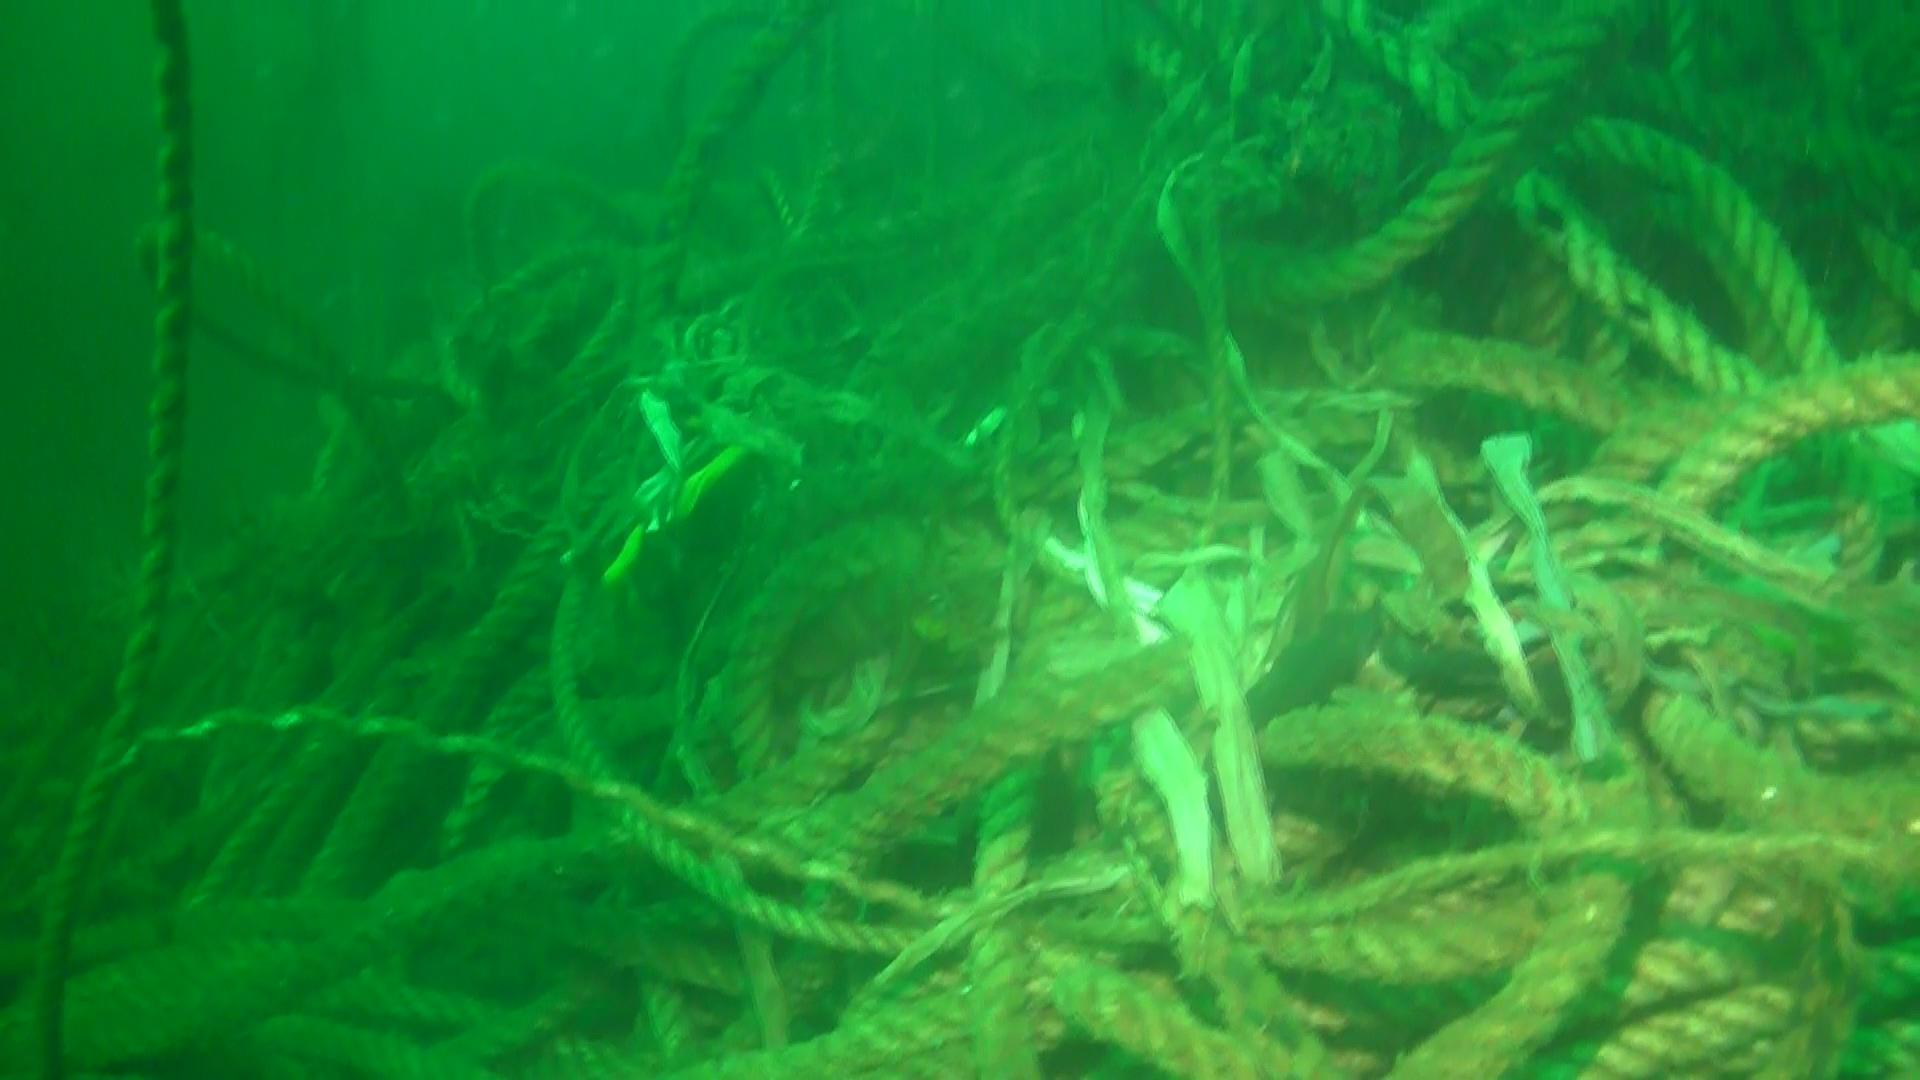bundle of ropes: (33, 1, 1920, 1080)
